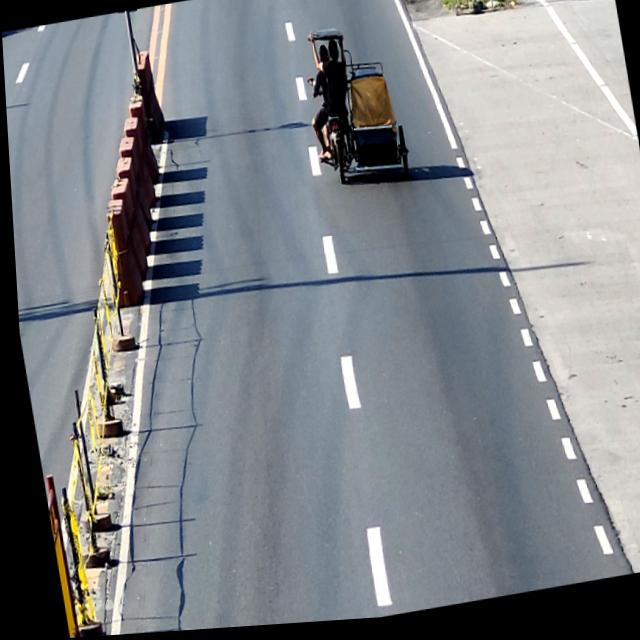License-Plate: (328, 133, 342, 144)
Tricycle: (302, 22, 411, 197)
